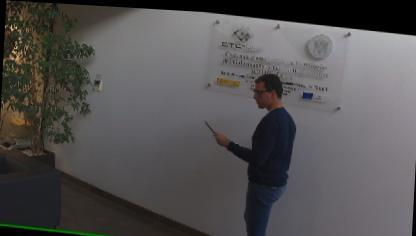knife: (200, 113, 220, 134)
